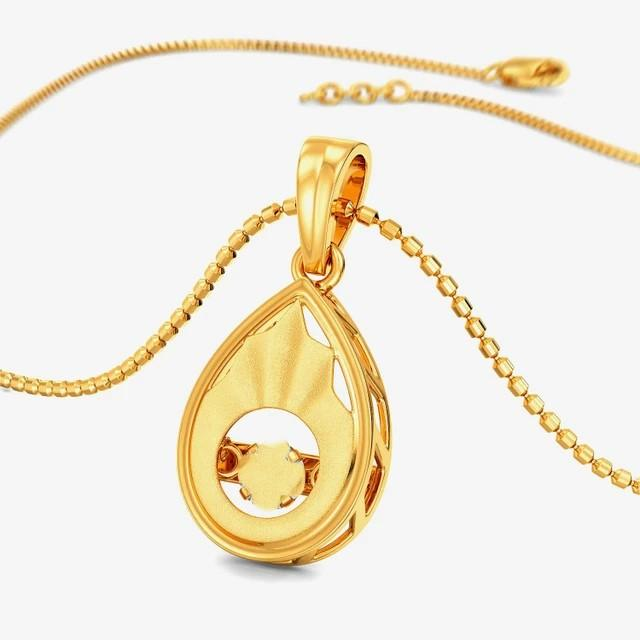missing gem: (238, 441, 305, 511)
